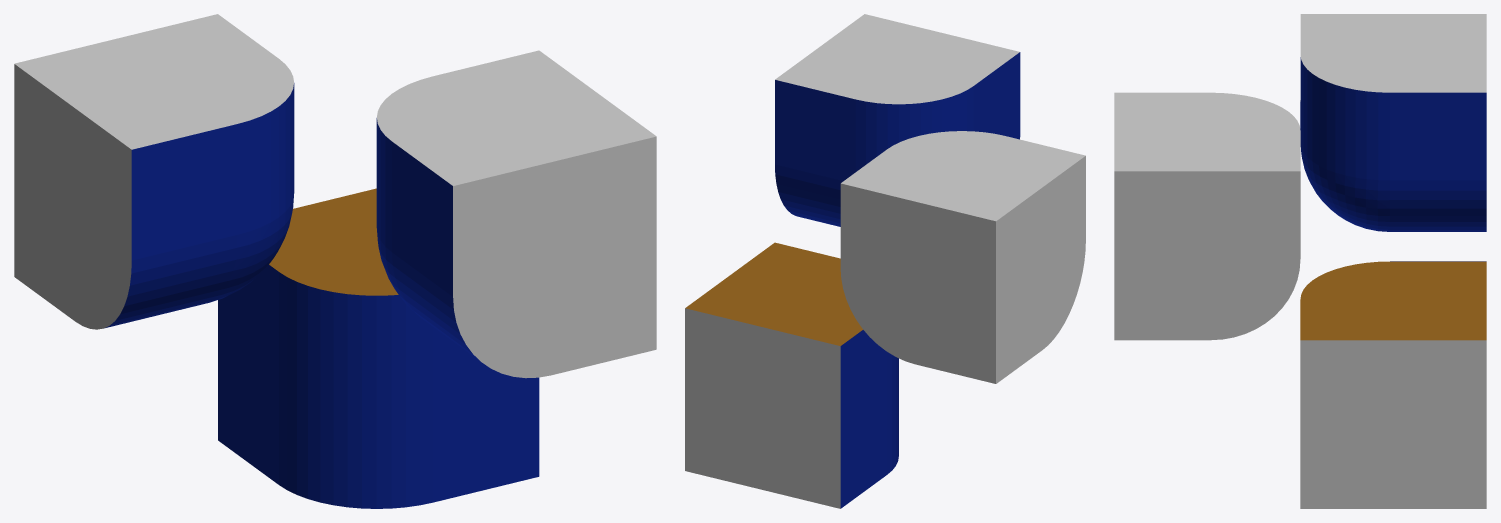
File: case_82.fbx
The picture shows the model from 3 angles, left to right: view 1: azimuth 30°, elevation 25°; view 2: azimuth 150°, elevation 25°; view 3: azimuth 270°, elevation 25°; orthographic projection. The views are drawn at different scales.
Visible parts, largest first — view 1: case_82; view 2: case_82; view 3: case_82.
Boxes of the visible parts, x1=… form: case_82: x1=14, y1=14, x2=656, y2=508; case_82: x1=685, y1=14, x2=1085, y2=508; case_82: x1=1114, y1=14, x2=1486, y2=508.
Size of the model in its own units: 1 by 1 by 1.
